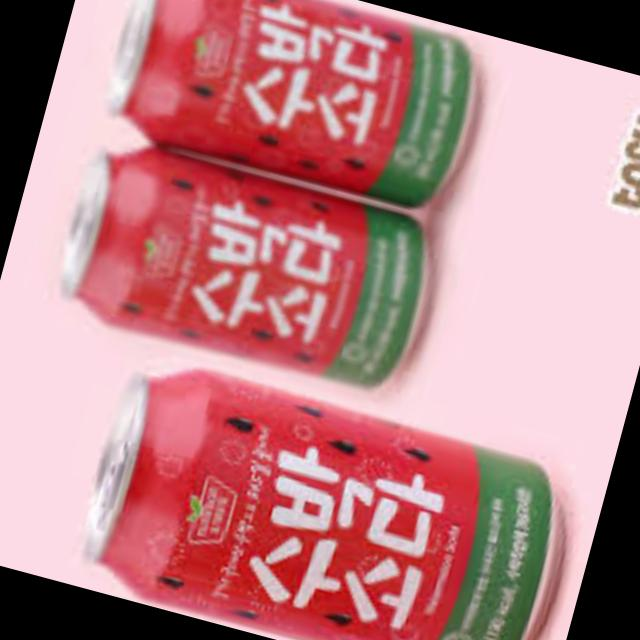metal: (80, 373, 553, 640), (57, 151, 419, 387), (104, 0, 465, 208)
